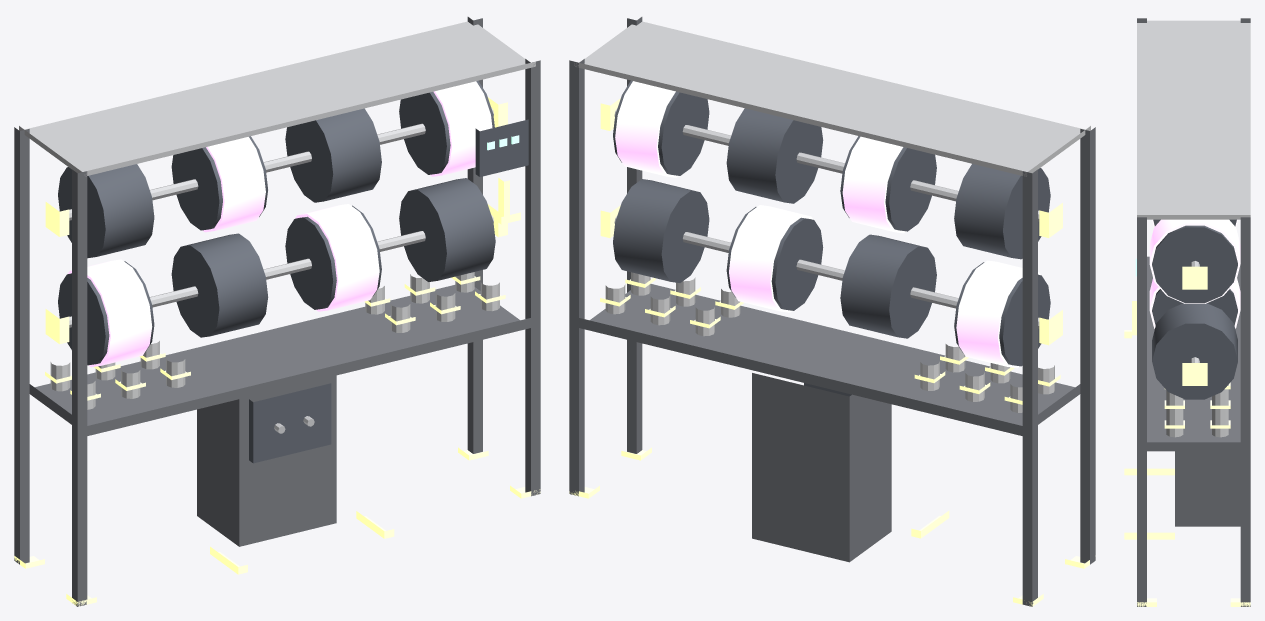
Rendered from iter_05.glb.
3 views of the same model, side by side, from view 1: azimuth 30°, elevation 25°; view 2: azimuth 150°, elevation 25°; view 3: azimuth 270°, elevation 25° (orthographic). The views are drawn at different scales.
Visible parts, largest first — view 1: Spools, Top_Shelf, Cartridge_Rails, Posts, Spool_Wraps, Port_Stand, Refill_Port, Cartridges, Axles, Request_Panel, Axle_Clamps, Cartridge_Clips (+2 smaller); view 2: Spools, Top_Shelf, Posts, Cartridge_Rails, Port_Stand, Spool_Wraps, Cartridges, Axles, Axle_Clamps, Cartridge_Clips, Floor_Clamps; view 3: Top_Shelf, Spools, Posts, Cartridge_Rails, Port_Stand, Spool_Wraps, Cartridges, Axle_Clamps, Guide_Rails, Cartridge_Clips, Floor_Clamps, Release_Lever.
Part boxes in pixels (box(x1,y1,x2,y2)): Spools: box(58, 81, 495, 365); Top_Shelf: box(19, 21, 535, 176); Cartridge_Rails: box(29, 285, 530, 435); Posts: box(14, 17, 540, 606); Spool_Wraps: box(68, 81, 492, 367); Port_Stand: box(197, 375, 336, 546); Refill_Port: box(249, 383, 331, 463); Cartridges: box(50, 272, 499, 409); Axles: box(69, 107, 493, 327); Request_Panel: box(475, 119, 528, 176); Axle_Clamps: box(45, 97, 507, 344); Cartridge_Clips: box(45, 276, 505, 400); Spools: box(613, 80, 1050, 366); Top_Shelf: box(574, 21, 1090, 176); Posts: box(569, 17, 1095, 606); Cartridge_Rails: box(579, 284, 1080, 435); Port_Stand: box(752, 373, 891, 562); Spool_Wraps: box(615, 81, 1040, 368); Cartridges: box(605, 272, 1054, 412); Axles: box(614, 108, 1039, 328); Axle_Clamps: box(600, 98, 1062, 345); Cartridge_Clips: box(600, 277, 1060, 404); Floor_Clamps: box(569, 447, 1089, 606); Top_Shelf: box(1137, 20, 1250, 219); Spools: box(1152, 219, 1237, 399); Posts: box(1137, 18, 1250, 606); Cartridge_Rails: box(1147, 256, 1240, 451); Port_Stand: box(1175, 451, 1240, 526); Spool_Wraps: box(1149, 219, 1240, 328); Cartridges: box(1166, 385, 1228, 437); Axle_Clamps: box(1182, 266, 1207, 385); Guide_Rails: box(1124, 468, 1174, 539); Cartridge_Clips: box(1164, 382, 1230, 428); Floor_Clamps: box(1137, 598, 1250, 606); Release_Lever: box(1124, 301, 1136, 338).
Bounding box in the file's own units: 1.9 × 1.7 × 0.5.
